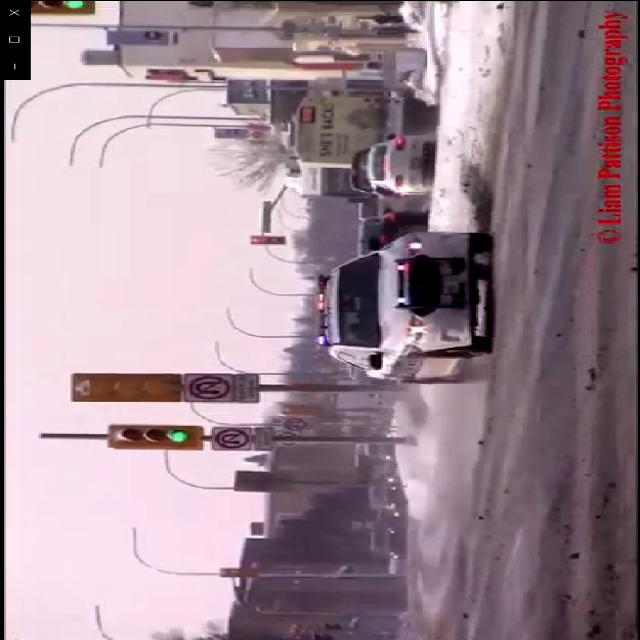emergency: (316, 222, 504, 382)
